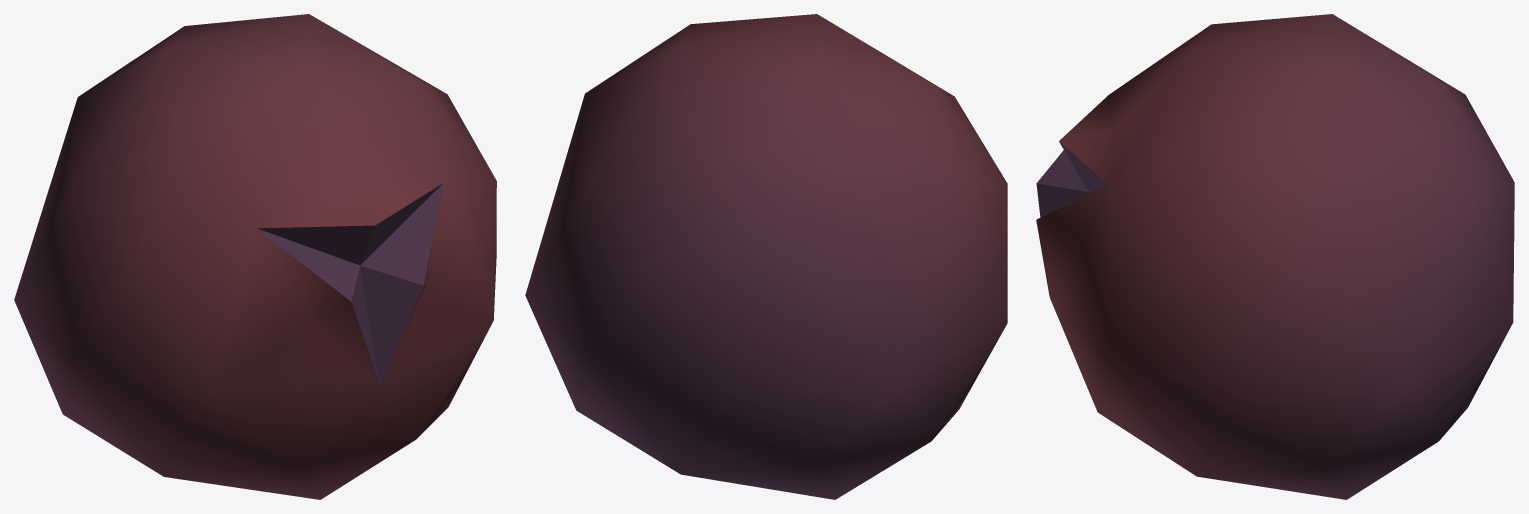
File: berry.fbx
The picture shows the model from 3 angles, left to right: view 1: azimuth 30°, elevation 25°; view 2: azimuth 150°, elevation 25°; view 3: azimuth 270°, elevation 25°; orthographic projection.
Parts seen in each view (by area): view 1: Berry; view 2: Berry; view 3: Berry.
Part boxes in pixels (x1,y1,x2,y2): Berry: (14,14,496,499); Berry: (525,14,1007,499); Berry: (1036,14,1514,499).
Bounding box in the file's own units: 0.8118 × 0.7425 × 0.793.
1 material, 1 textured.
